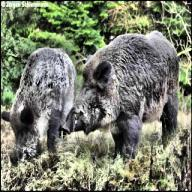boar: (60, 29, 180, 162), (2, 46, 78, 162)
